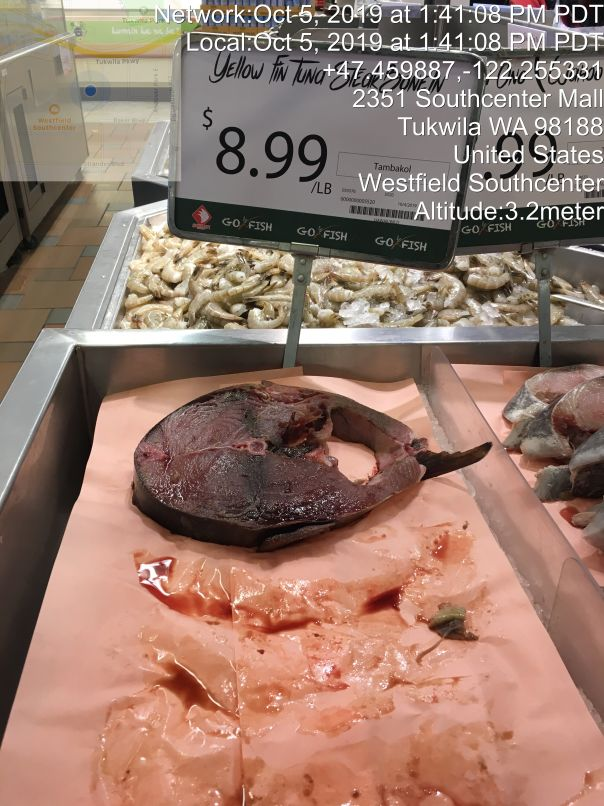Label: (162, 16, 492, 279)
Location: (347, 83, 604, 194)
Time: (146, 1, 604, 56)
Void: (123, 484, 479, 679), (115, 611, 471, 806)
Yellow Fin Tuna: (134, 356, 490, 551)
